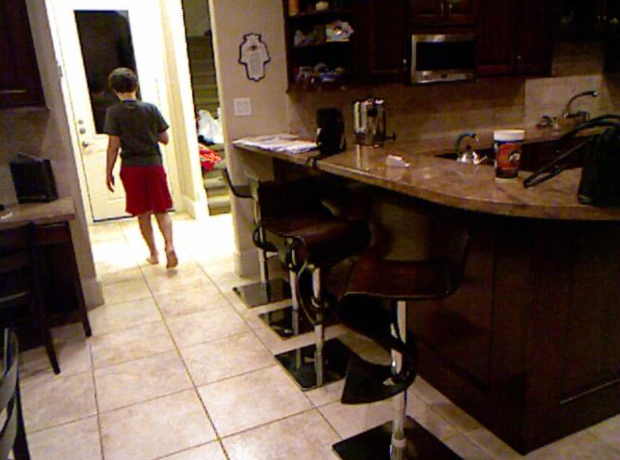chair: (341, 225, 473, 460), (256, 176, 339, 387)
door: (71, 10, 110, 137)
table: (480, 145, 620, 447)
